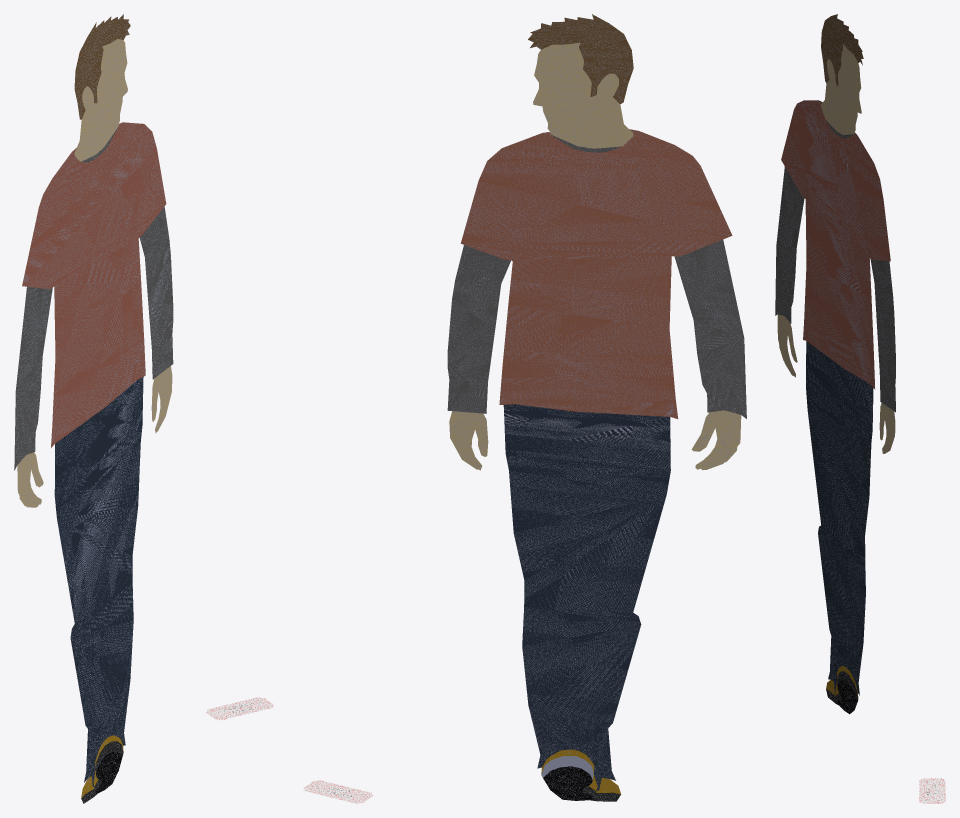
File: Ticket.dae
The picture shows the model from 3 angles, left to right: view 1: azimuth 30°, elevation 25°; view 2: azimuth 150°, elevation 25°; view 3: azimuth 270°, elevation 25°; orthographic projection. The views are drawn at different scales.
Visible parts, largest first — view 1: Bryce (×9), group_0; view 2: Bryce (×9); view 3: Bryce (×9), group_0.
Boxes of the visible parts, left/top/right/bottom form: Bryce (×9): left=14, top=14, right=173, bottom=793; group_0: left=210, top=699, right=269, bottom=718; Bryce (×9): left=447, top=14, right=746, bottom=800; Bryce (×9): left=775, top=14, right=895, bottom=714; group_0: left=923, top=779, right=941, bottom=802.
Size of the model in its own units: 33.04 by 15.91 by 71.19.
